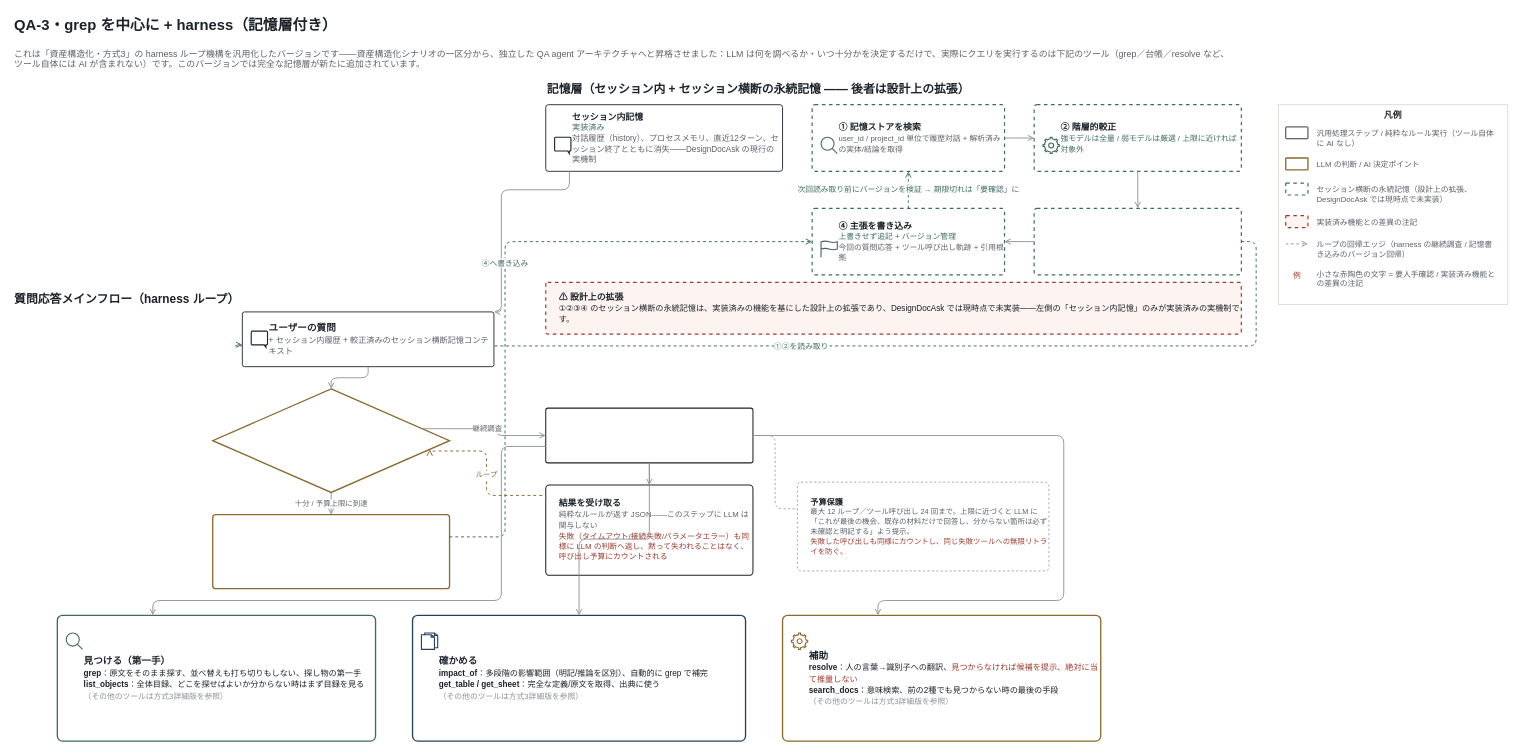
Some shapes in this 1521 by 754 pixel diagram are drawn without their labels. The shapes that lost their labels are listed below. From the top down, each one's centre as x and y in pixels, then its label:
(x=1137, y=241): ③ タスク実行 下方のメインフロー（harness ループ）へ接続
(x=331, y=440): LLM の判断 材料は揃ったか？さらに調べる必要があるか？
(x=649, y=435): ツールを1つ呼び出す 見つける / 確かめる / 補助の3種から1つ選ぶ（下記参照）
(x=331, y=551): 最終回答を生成 出典を添付；明記／推論／「未確認」（見つからなかった箇所）を区別して明示
